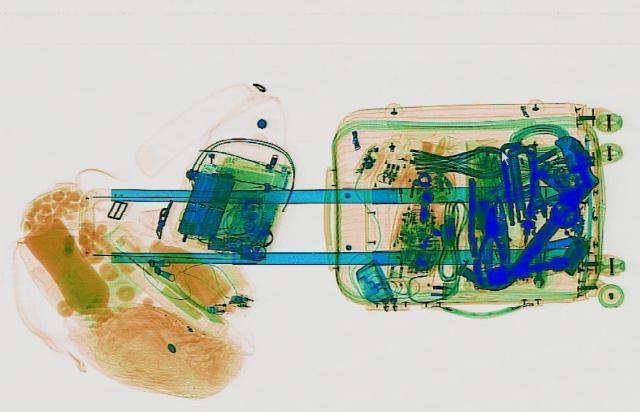Pliers: (470, 202, 510, 274)
